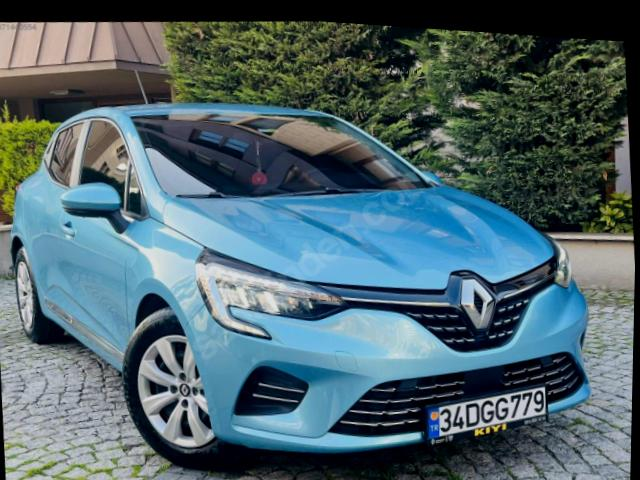plaka: (428, 386, 546, 439)
